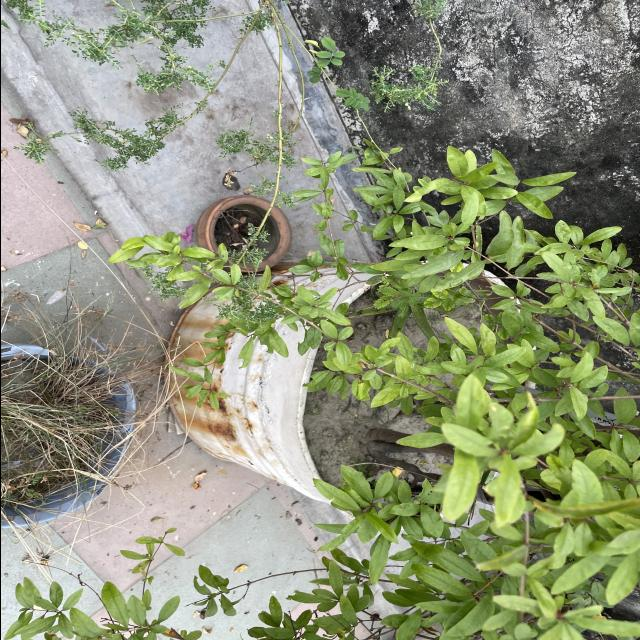Breeding Place: (171, 262, 521, 512), (0, 342, 128, 530), (192, 198, 290, 276)
